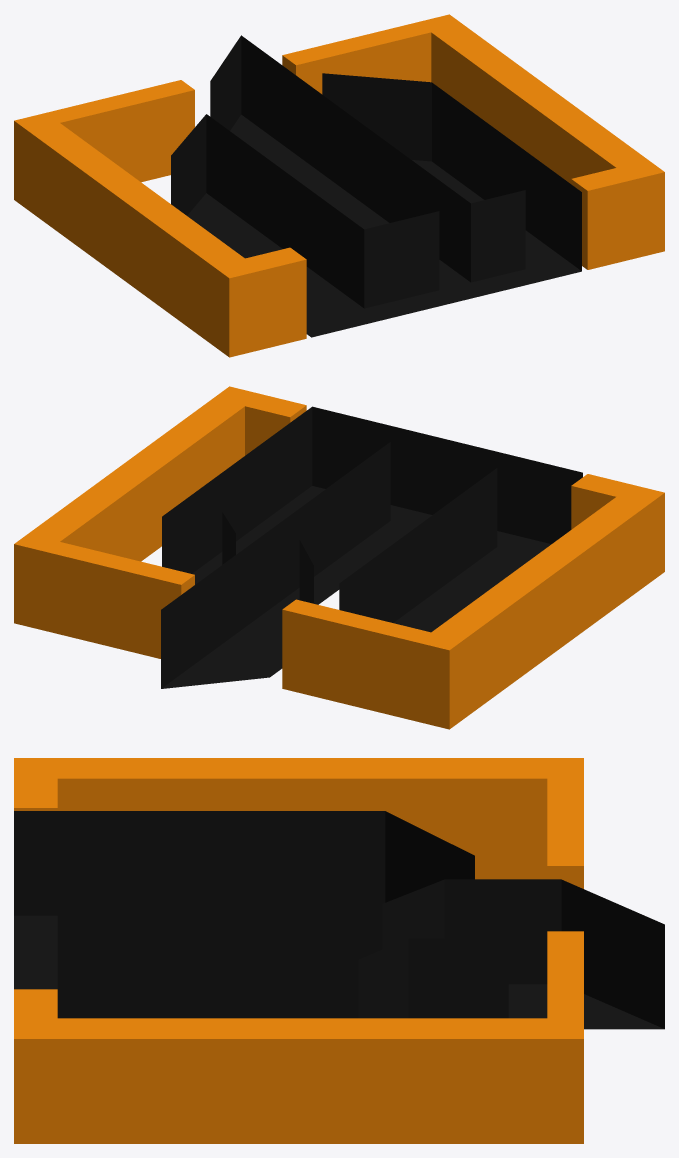
File: skala.glb
The picture shows the model from 3 angles, top to bottom: view 1: azimuth 30°, elevation 25°; view 2: azimuth 150°, elevation 25°; view 3: azimuth 270°, elevation 25°; orthographic projection. The views are drawn at different scales.
Visible parts, largest first — view 1: logo; view 2: logo; view 3: logo.
Part boxes in pixels (left/top/right/bottom): logo: left=14, top=14, right=664, bottom=357; logo: left=14, top=386, right=664, bottom=729; logo: left=14, top=758, right=664, bottom=1143.
Size of the model in its own units: 3.31 by 0.5753 by 3.24.
